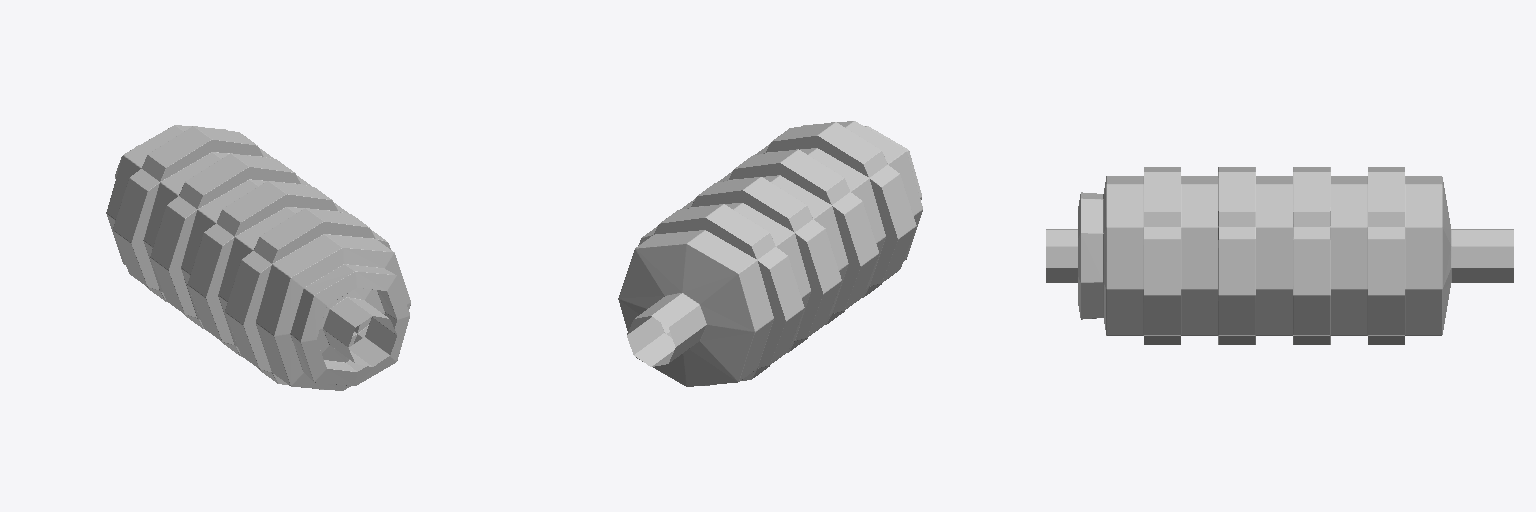
The model's file is EngineMiddle01.obj.
3 renders of one model, left to right at view 1: azimuth 30°, elevation 25°; view 2: azimuth 150°, elevation 25°; view 3: azimuth 270°, elevation 25°, orthographic.
Visible parts, largest first — view 1: EngineBody01_Cylinder; view 2: EngineBody01_Cylinder; view 3: EngineBody01_Cylinder.
Part boxes in pixels (x1,y1,x2,y2): EngineBody01_Cylinder: (106, 125, 410, 390); EngineBody01_Cylinder: (618, 121, 922, 386); EngineBody01_Cylinder: (1046, 167, 1513, 344).
Size of the model in its own units: 1.43 by 1.42 by 3.58.